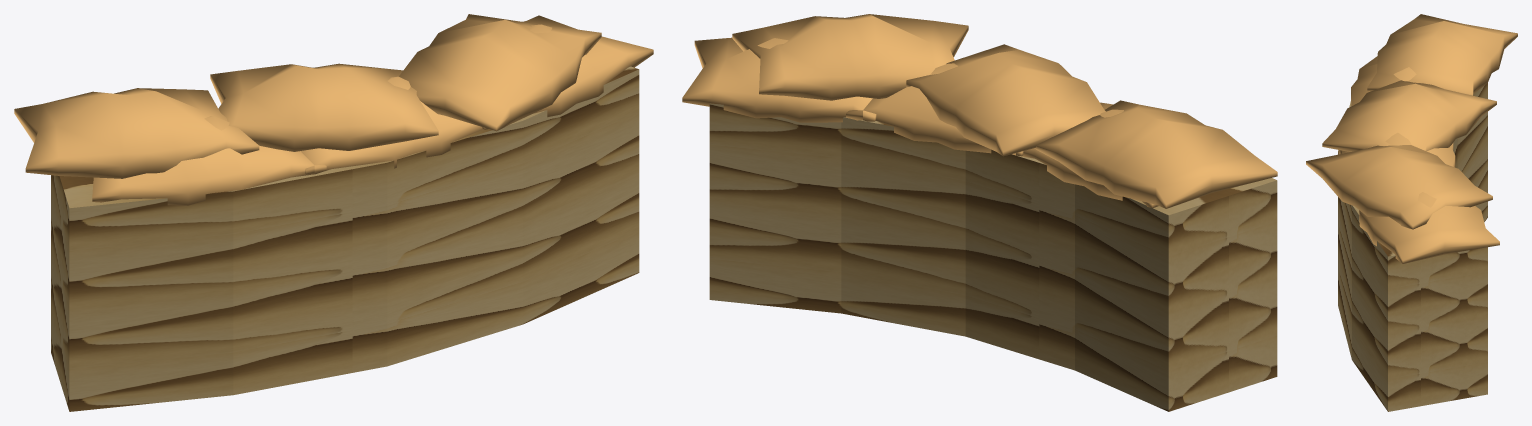
File: Sandbag_Curve.fbx
3 views of the same model, side by side, from view 1: azimuth 30°, elevation 25°; view 2: azimuth 150°, elevation 25°; view 3: azimuth 270°, elevation 25° (orthographic). The views are drawn at different scales.
Visible parts, largest first — view 1: SandBag_Curve; view 2: SandBag_Curve; view 3: SandBag_Curve.
Boxes of the visible parts, <box> form: SandBag_Curve: <box>14,14,653,411</box>; SandBag_Curve: <box>682,14,1277,411</box>; SandBag_Curve: <box>1306,14,1517,411</box>.
Size of the model in its own units: 0.0361 by 0.0153 by 0.0141.
